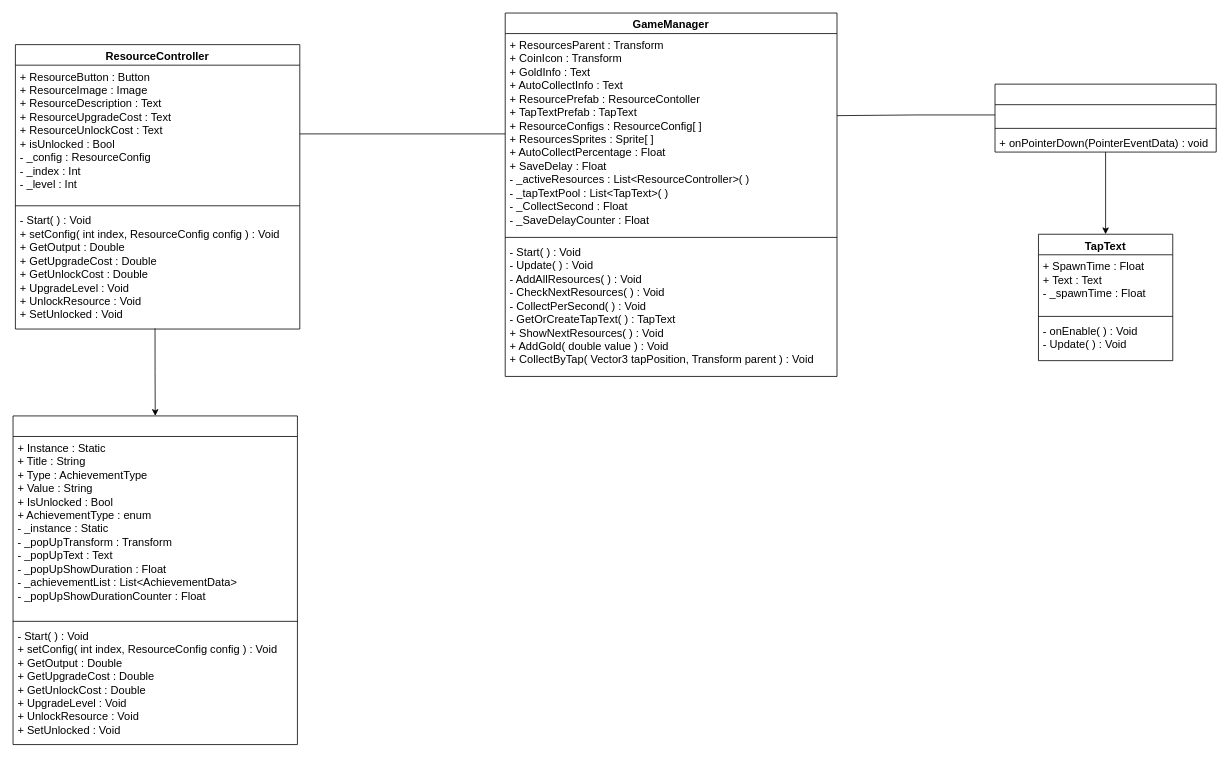
Image size: 1229x758. Some labels were removed from this diagram. The shapes that lost their labels are listed below. From the top down, each one's box as (x1, y1, x2, y2) in pixels, then its label:
(994, 83, 1216, 152): TapArea
(12, 415, 297, 745): AchievementController
